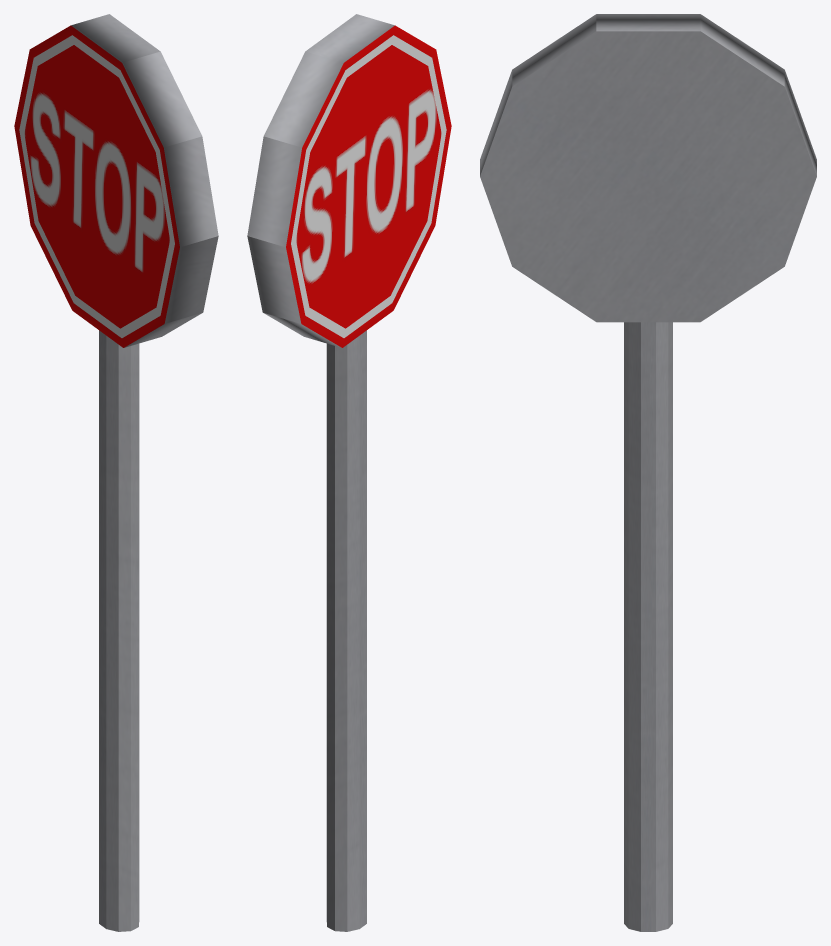
The model's file is stop tabelası yeni.fbx.
3 views of the same model, side by side, from view 1: azimuth 30°, elevation 25°; view 2: azimuth 150°, elevation 25°; view 3: azimuth 270°, elevation 25° (orthographic).
Parts seen in each view (by area): view 1: Icosphere.002; view 2: Icosphere.002; view 3: Icosphere.002.
Boxes of the visible parts, x1,y1,x2,y2 form: Icosphere.002: (14, 14, 218, 931); Icosphere.002: (247, 14, 451, 931); Icosphere.002: (480, 14, 816, 931).
Size of the model in its own units: 9.16 by 194 by 65.63.
1 material, 1 textured.
